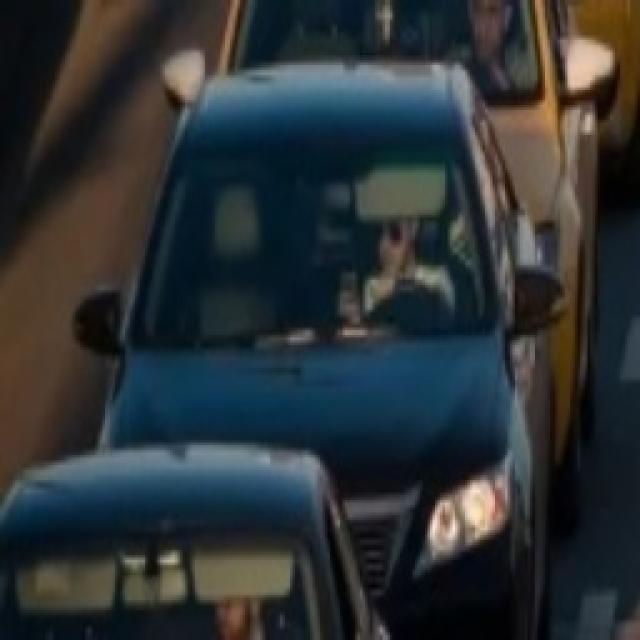windshield: (130, 122, 500, 360), (0, 524, 347, 640), (224, 0, 551, 109)
